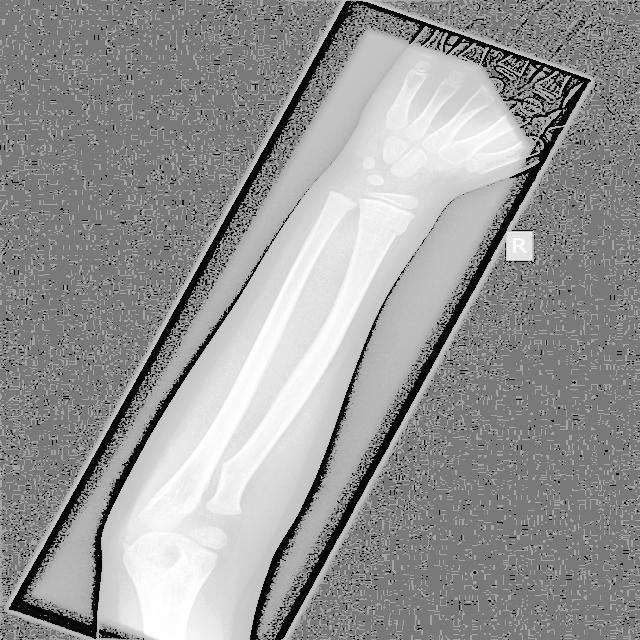GreenStick Fracture: (361, 142, 434, 218)
